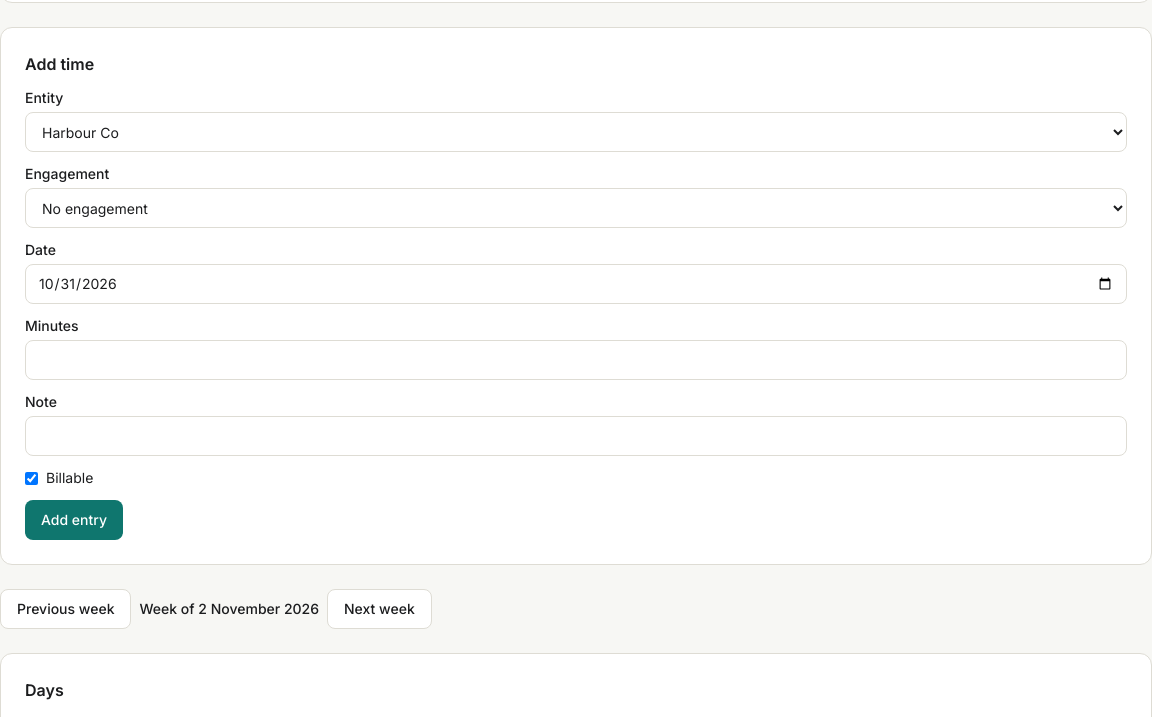
Scenario: time › TP3 minutes are checked before sending
This screenshot has width=1152, height=717.
(page scrolled)
Step 1. Type "0" into the number field labelled "Minutes" → [576, 360], box 25,340 -> 1127,380
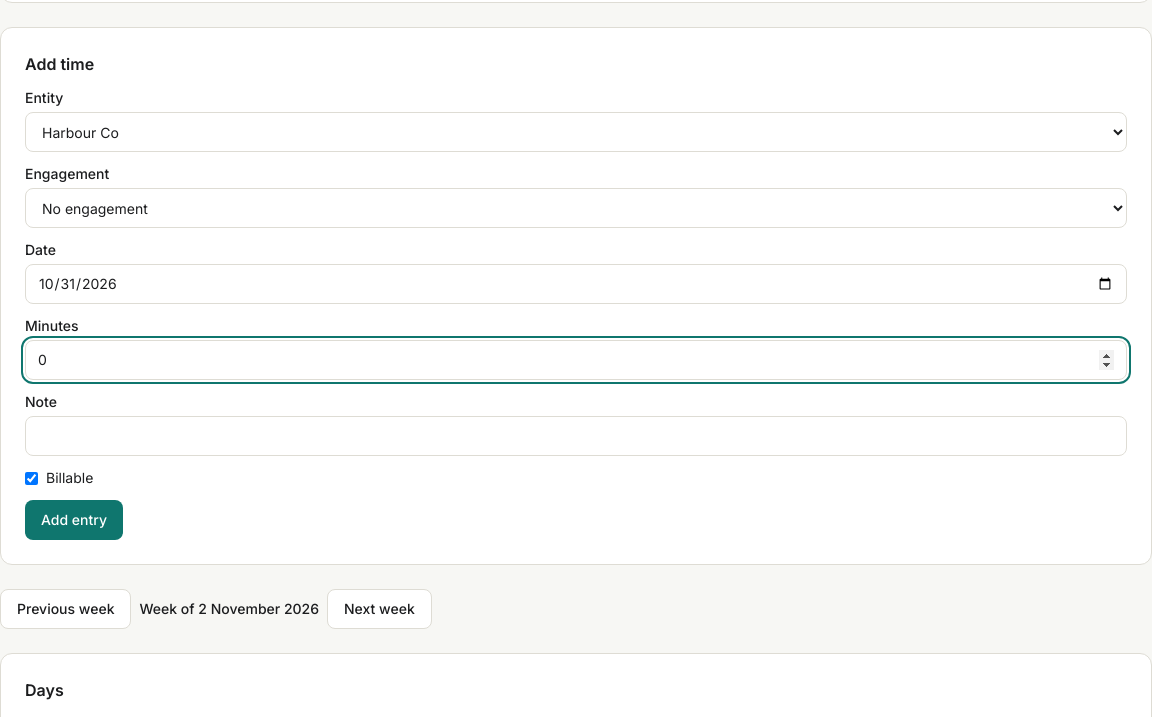
Step 2. Click the button "Add entry" → [74, 520], box 25,500 -> 123,540
(page scrolled)
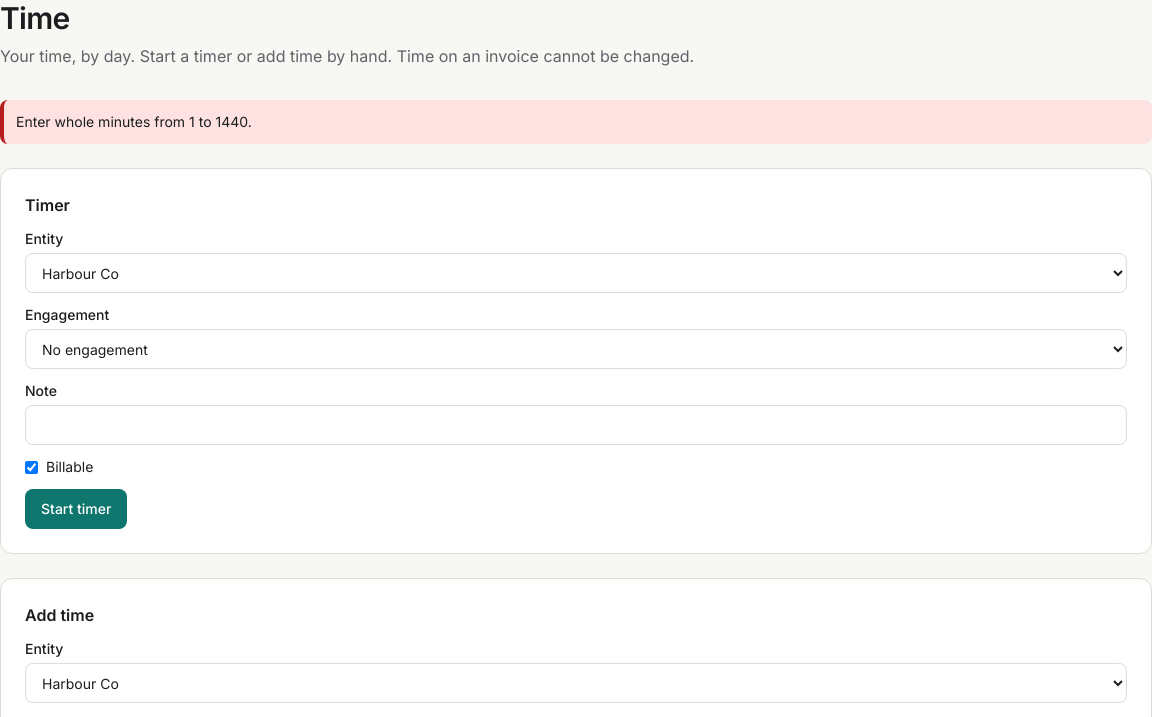
Expected: the text "Enter whole minutes from 1 to 1440." is shown, 0,100 -> 1151,144
